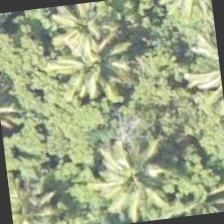Kelapa_Sawit: (80, 122, 180, 222), (44, 14, 144, 114), (6, 158, 73, 223), (167, 150, 223, 217)
